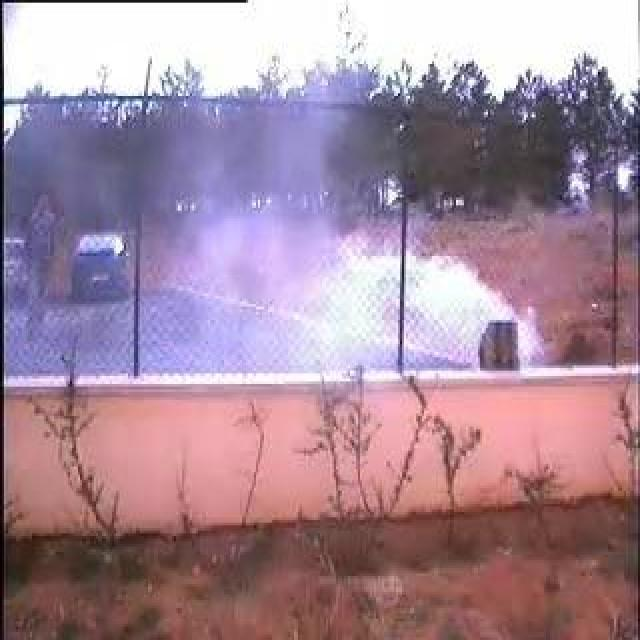Smoke: (162, 119, 538, 372)
